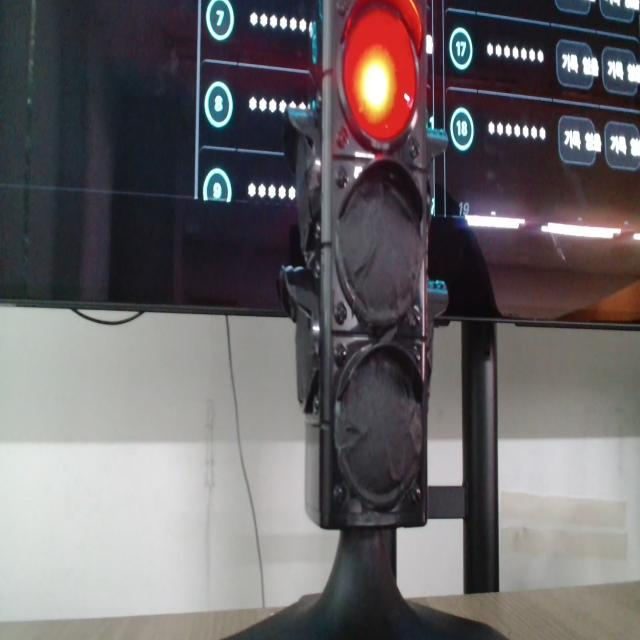red_light: (343, 8, 417, 142)
